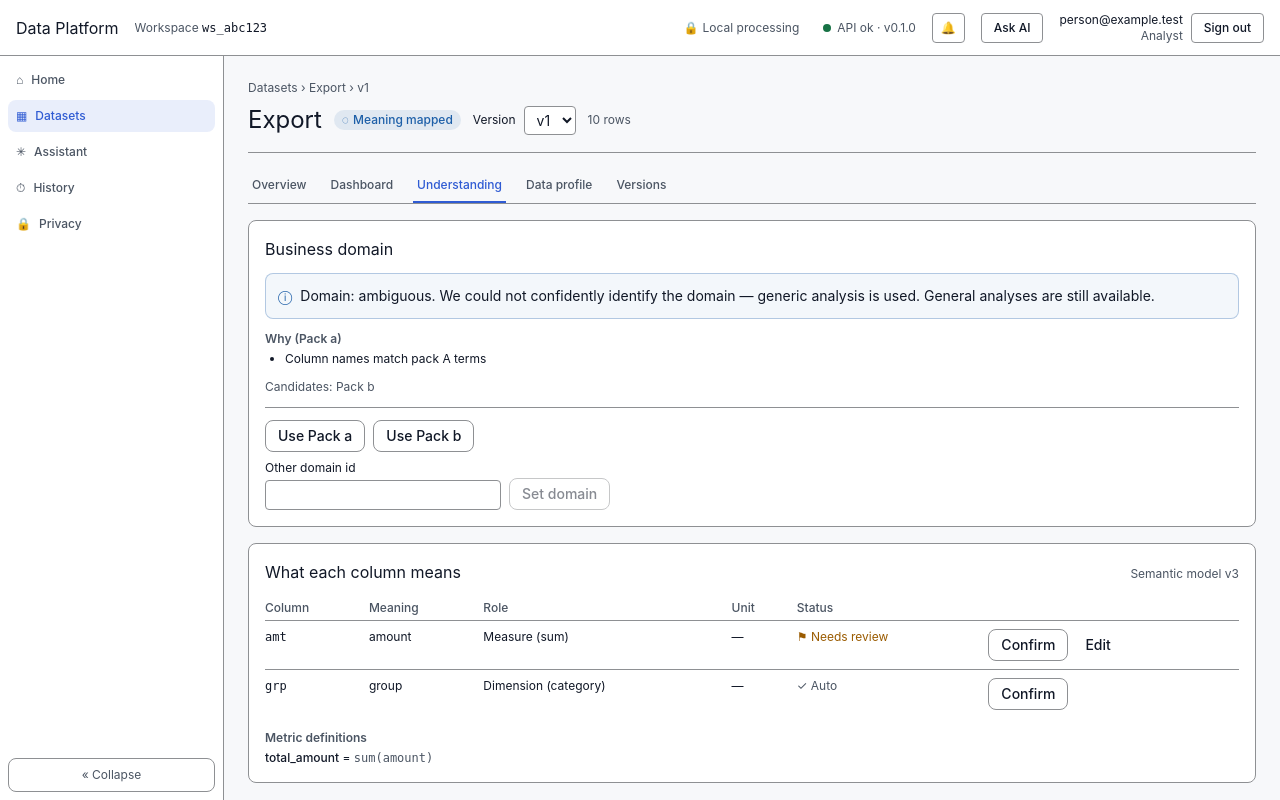
Test case: SemanticMappingViewer (TASK-UI-007) › asks the user to reload when the model changed underneath (409)
This screenshot has width=1280, height=800.
Click the button with aria-label "Edit amt". click: point(1098, 645)
box: [1072,629,1124,661]
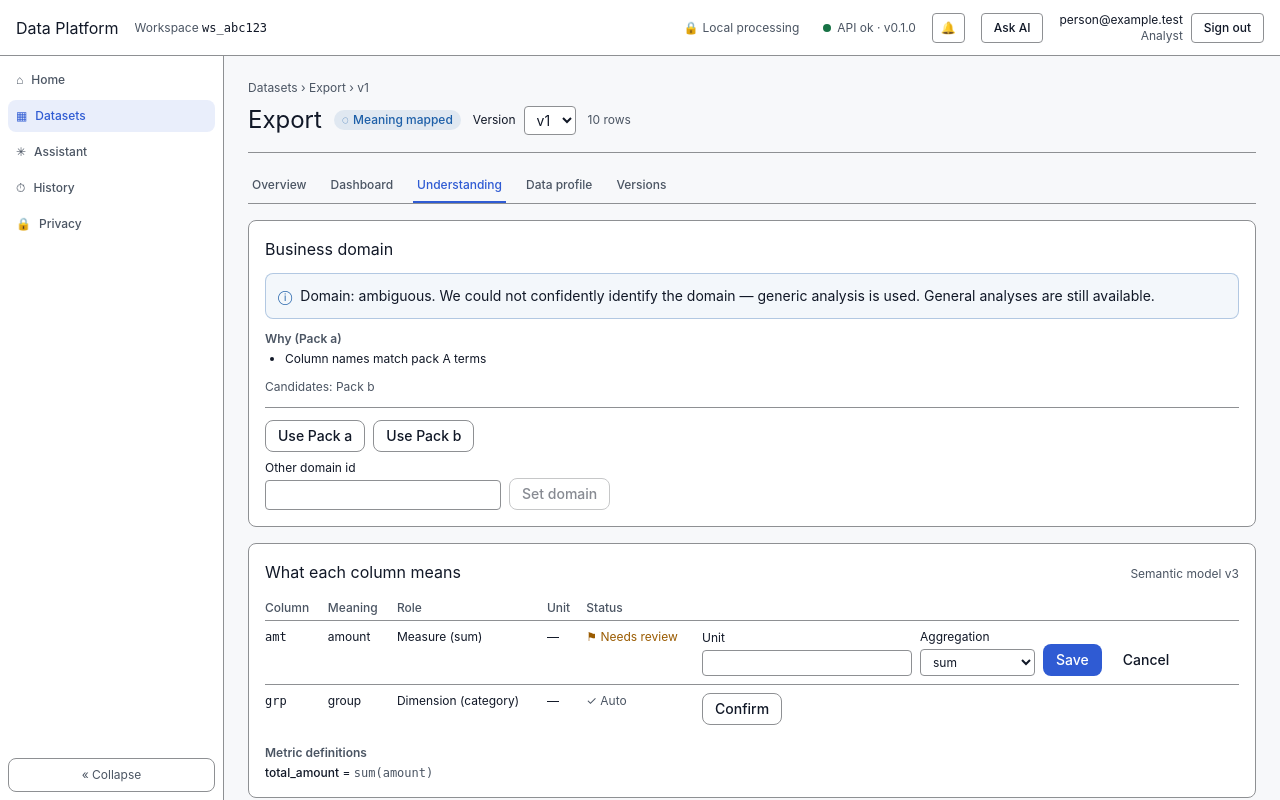
Type "kg" into the field labelled "Unit". click: point(807, 663)
box: [702,650,912,676]
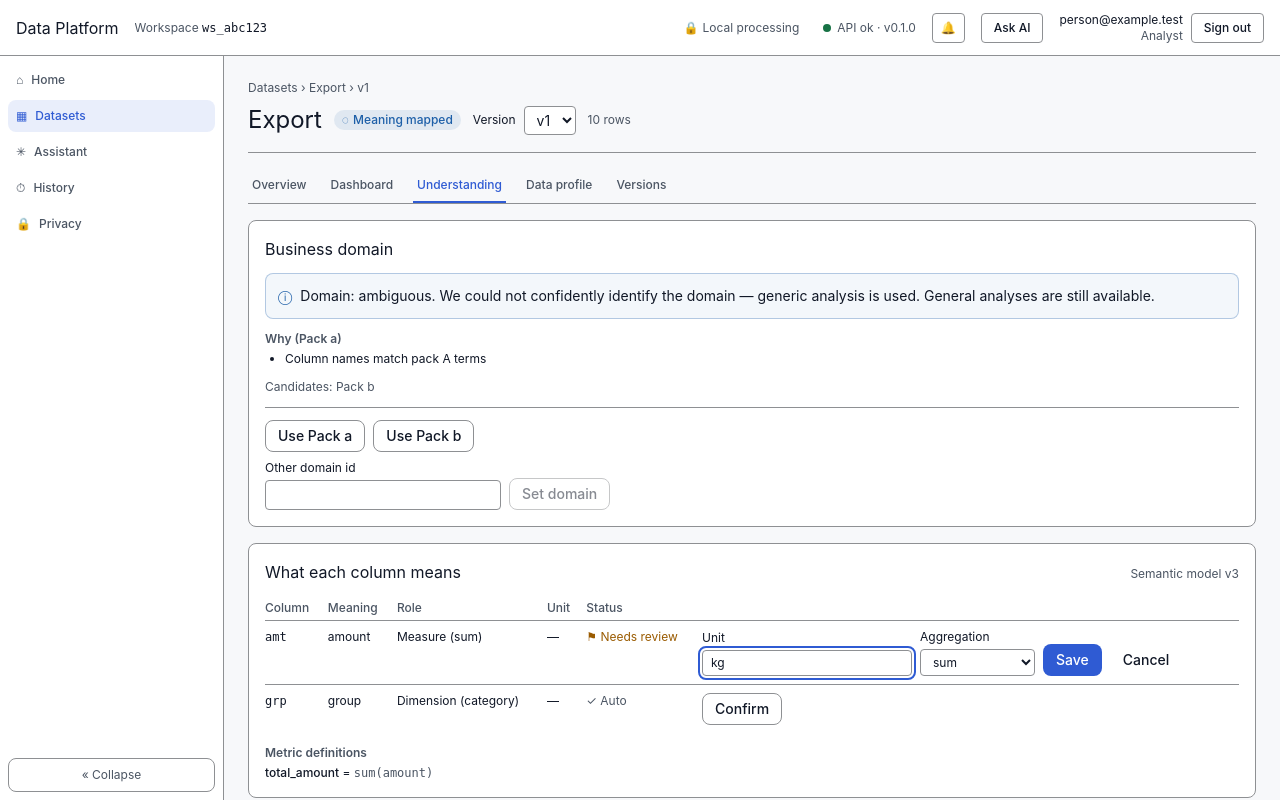
Click the button "Save". click: point(1072, 660)
box: [1043,644,1102,676]
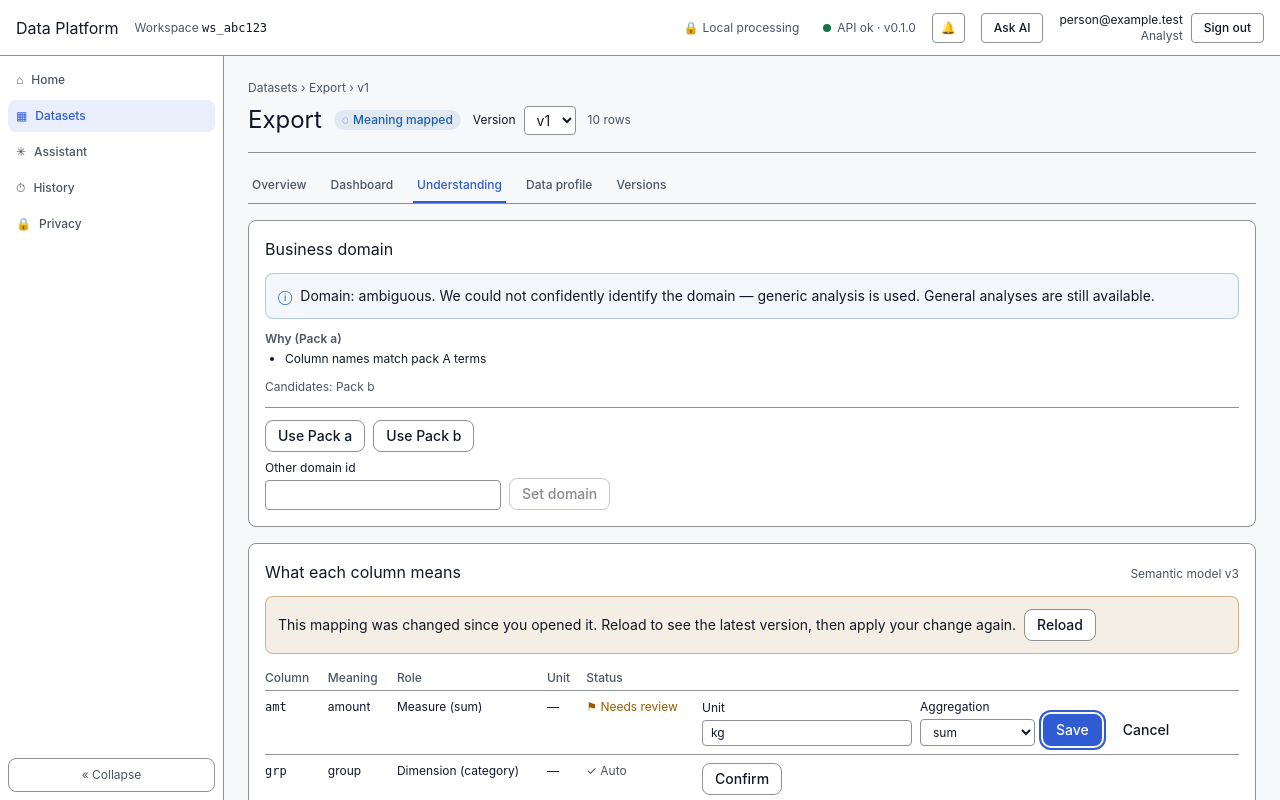
Check: the message shows "changed since you opened it", box [278,616,1016,633]
Click the button "Reload". click: point(1060, 625)
box: [1024,609,1096,641]
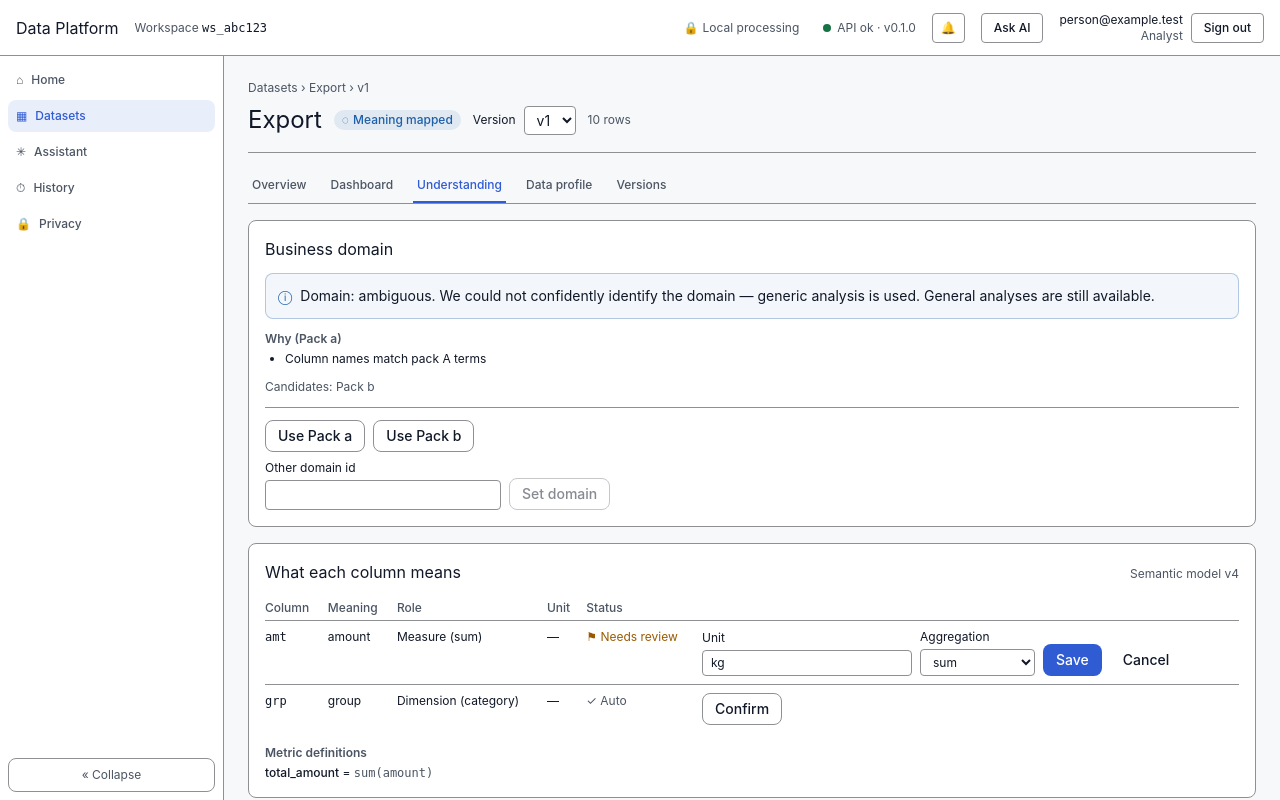
Check: the text "Semantic model v4" is shown, box [1130,566,1239,582]
Check: the text "changed since you opened it" is gone
